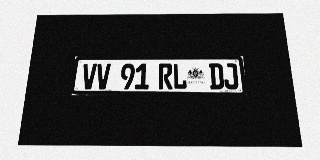1: (135, 63, 149, 89)
9: (120, 63, 135, 89)
D: (209, 63, 224, 89)
J: (223, 63, 239, 89)
L: (173, 63, 187, 89)
R: (159, 63, 173, 89)
V: (81, 64, 97, 89), (96, 63, 111, 89)
